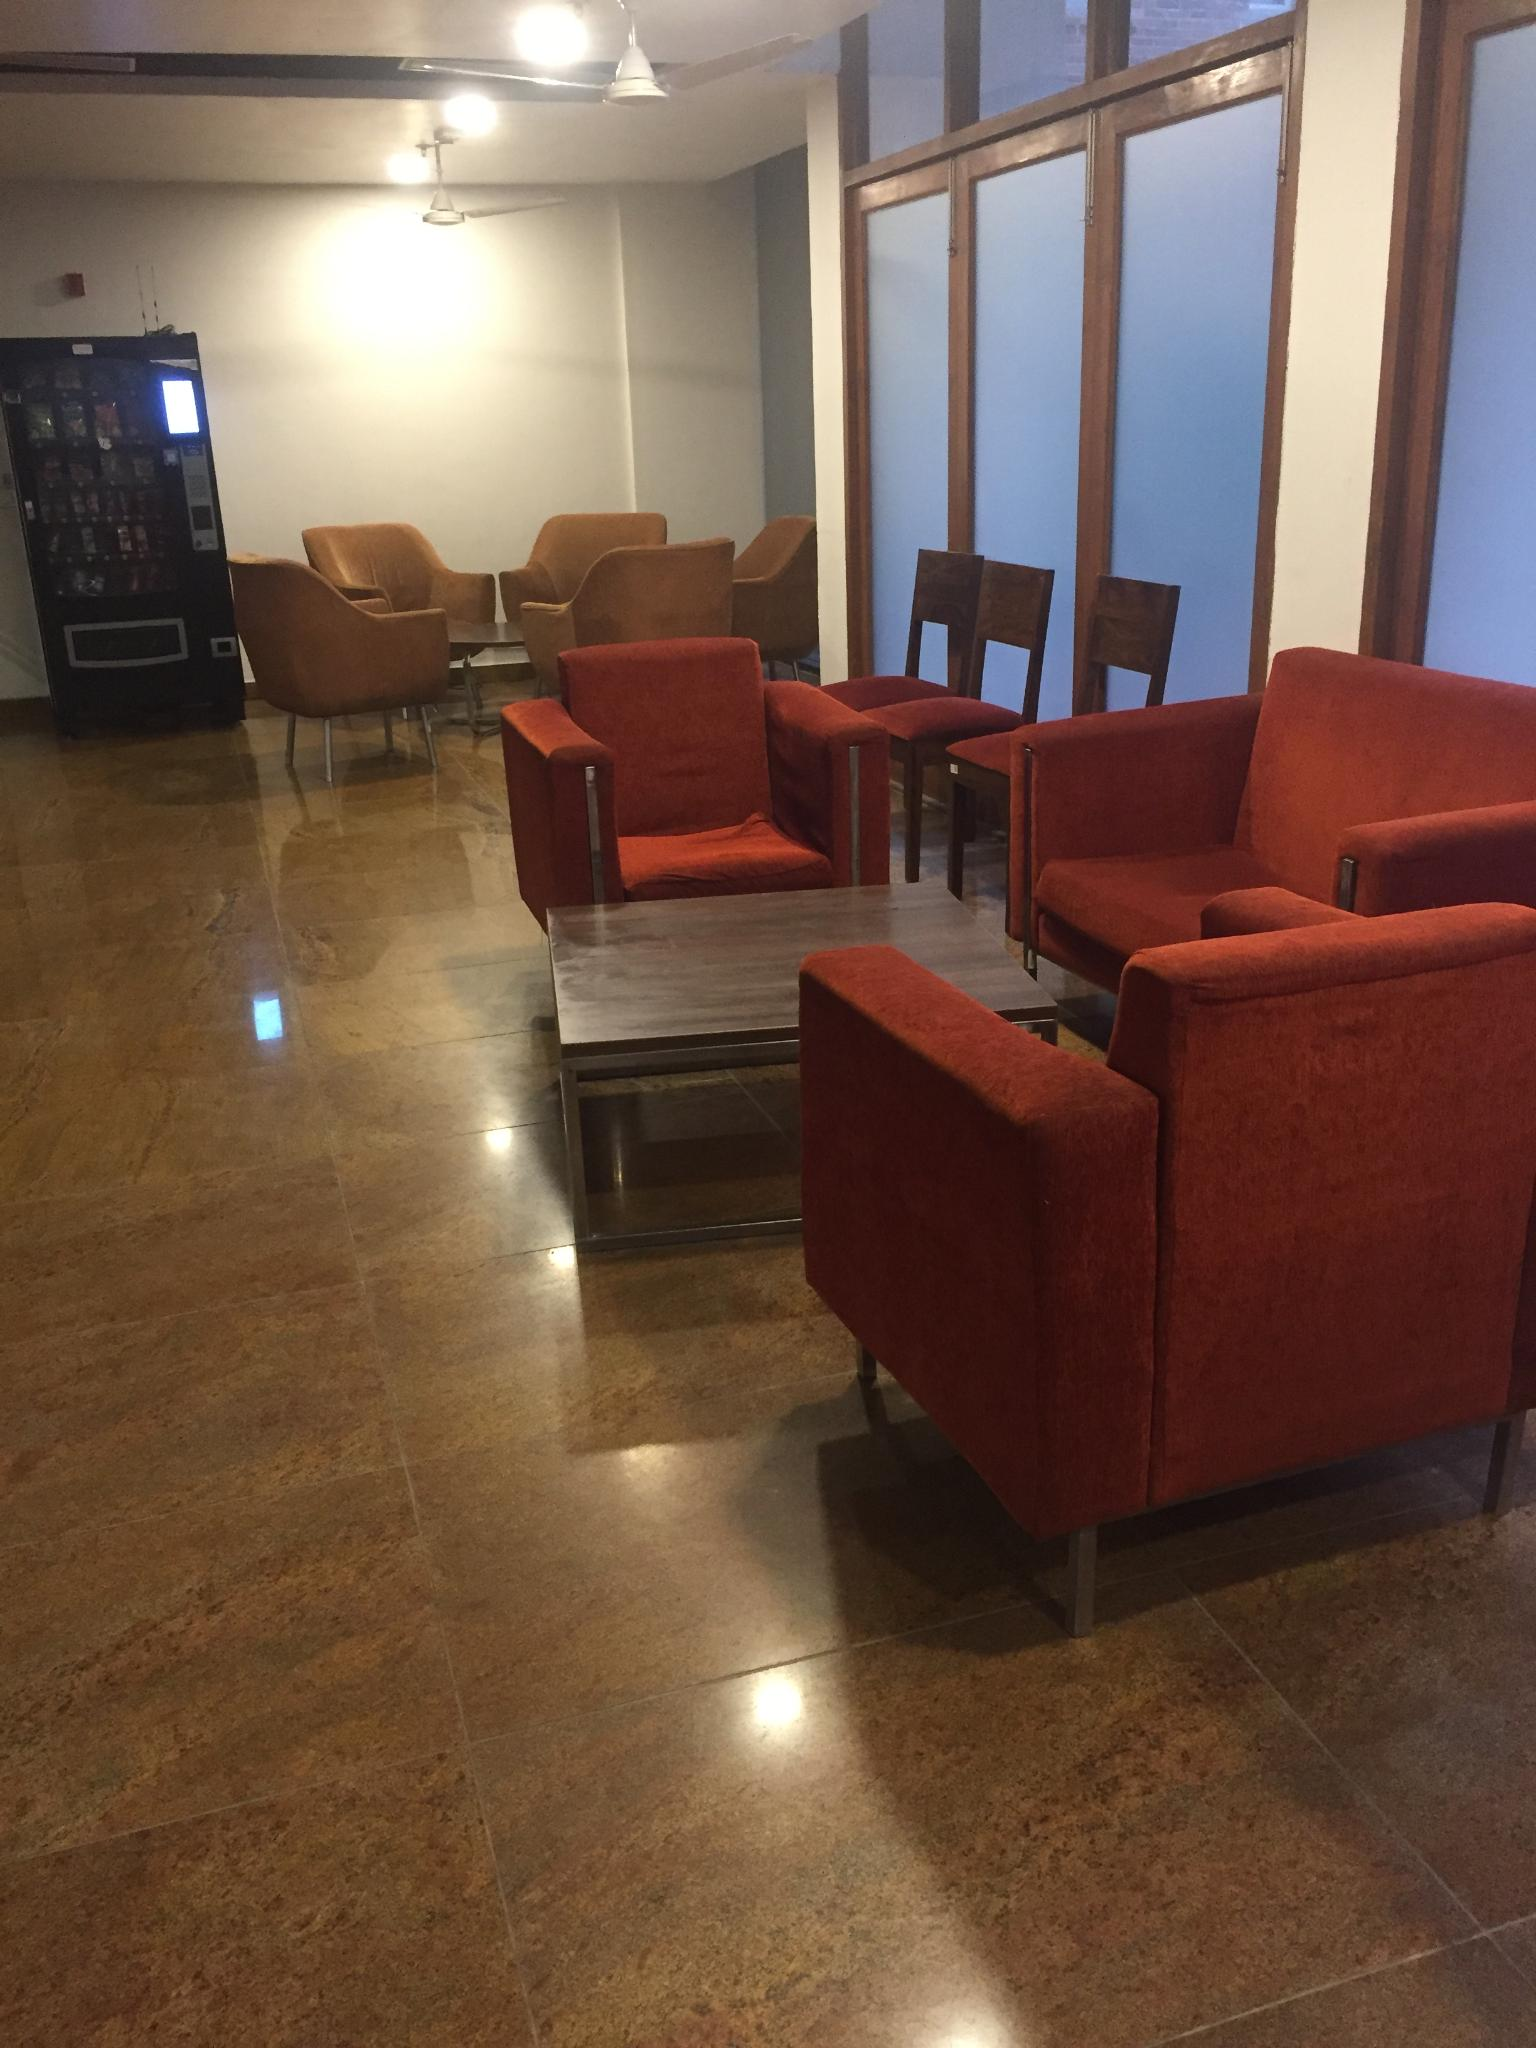chair: (944, 574, 1181, 929), (839, 556, 1055, 884), (227, 555, 450, 782), (302, 522, 497, 740), (521, 537, 736, 698), (731, 514, 818, 679)
